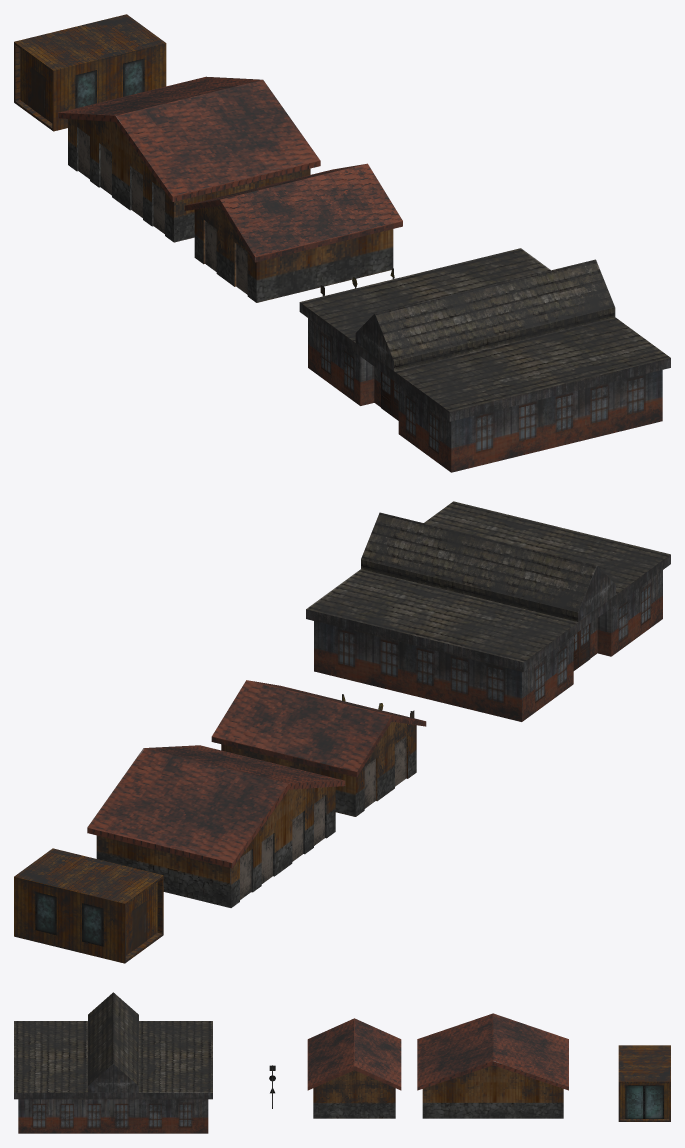
3 views of the same model, one above another, from view 1: azimuth 30°, elevation 25°; view 2: azimuth 150°, elevation 25°; view 3: azimuth 270°, elevation 25° (orthographic). The views are drawn at different scales.
Visible parts, largest first — view 1: Gift Shop, Restroom big, Restroom small, Cabin; view 2: Gift Shop, Restroom big, Restroom small, Cabin; view 3: Gift Shop, Restroom big, Restroom small, Cabin.
Boxes of the visible parts, x1,y1,x2,y2 form: Gift Shop: (299, 248, 670, 472); Restroom big: (58, 76, 320, 242); Restroom small: (184, 163, 402, 302); Cabin: (14, 14, 166, 131); Gift Shop: (306, 501, 670, 721); Restroom big: (87, 745, 345, 907); Restroom small: (211, 680, 426, 816); Cabin: (14, 848, 163, 963); Gift Shop: (14, 992, 212, 1133); Restroom big: (417, 1013, 568, 1118); Restroom small: (307, 1018, 401, 1118); Cabin: (618, 1045, 670, 1121).
Size of the model in its own units: 1158 by 559 by 4493.
Materials: 1 (1 with a texture image).
